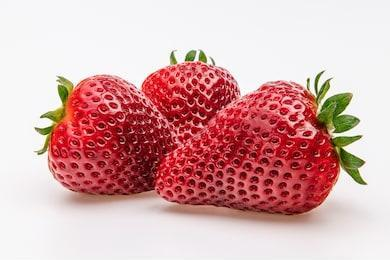Fresa: (151, 76, 346, 218), (43, 71, 191, 203), (141, 57, 249, 151)
